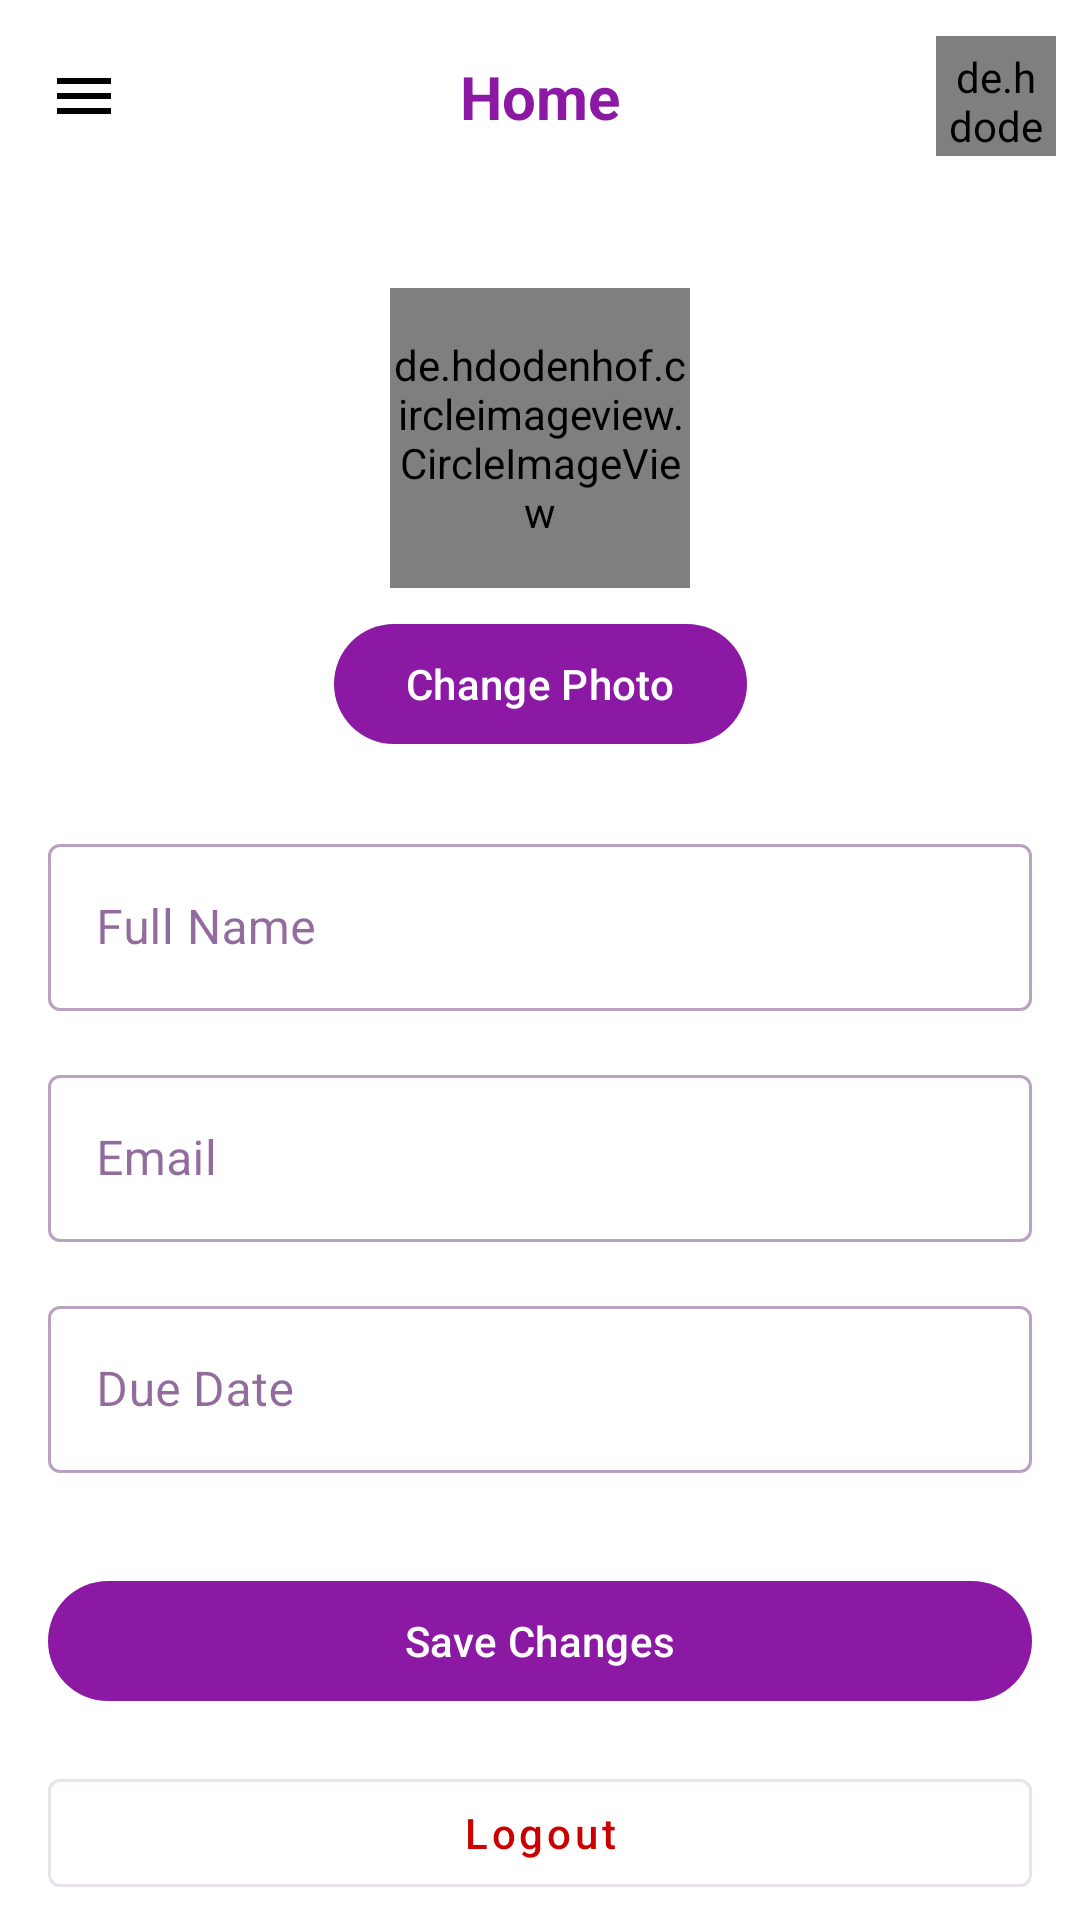

Named icons in this screenshot (1080 x 1920) and their bounding boxes, (x1, y1, x2, y2):
Menu: (57, 78, 111, 114)
